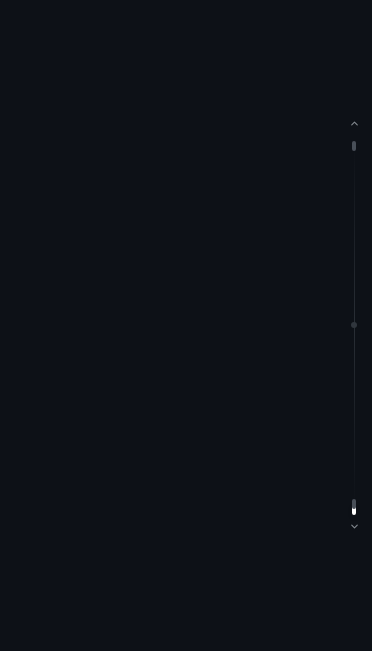
Test: TimelineScrubber › synchronizes the active turn to the final turn when scrolled to bottom even with unequal heights
This screenshot has width=372, height=651.
Hover over the element with test id "timeline-scrubber": {"x": 354, "y": 325} x1=344 y1=16 x2=364 y2=634
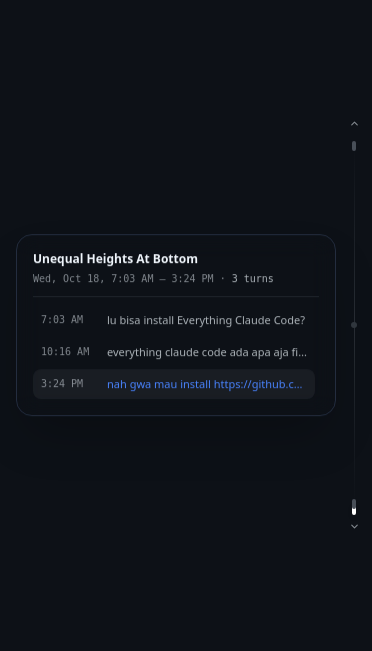
Check: the button with id "21262d" shows "nah gwa mau install https://github.com/test", box x1=33 y1=369 x2=315 y2=399
